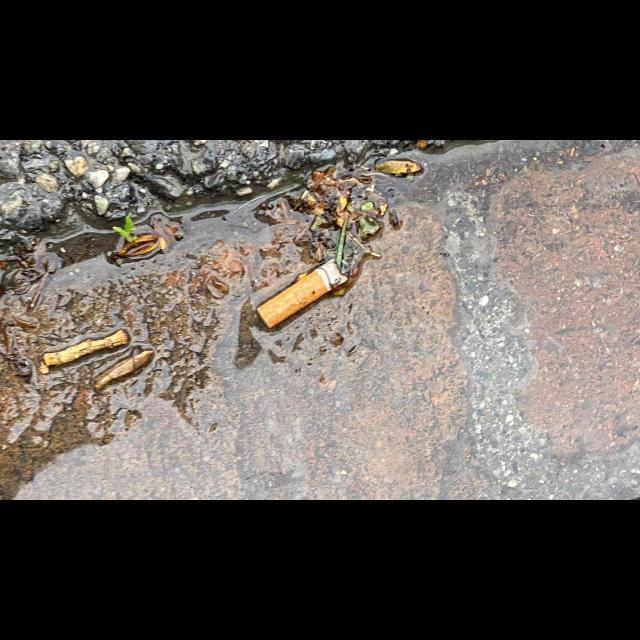cigarette: (256, 258, 349, 330)
